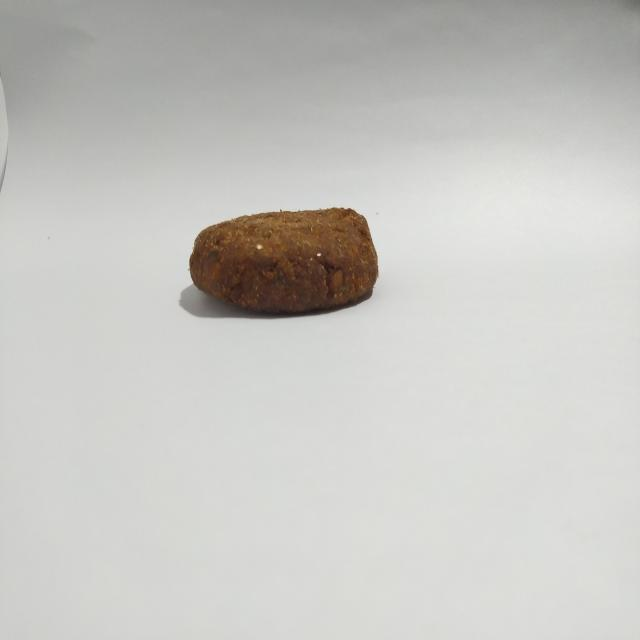Pajagua: (178, 192, 392, 339)
